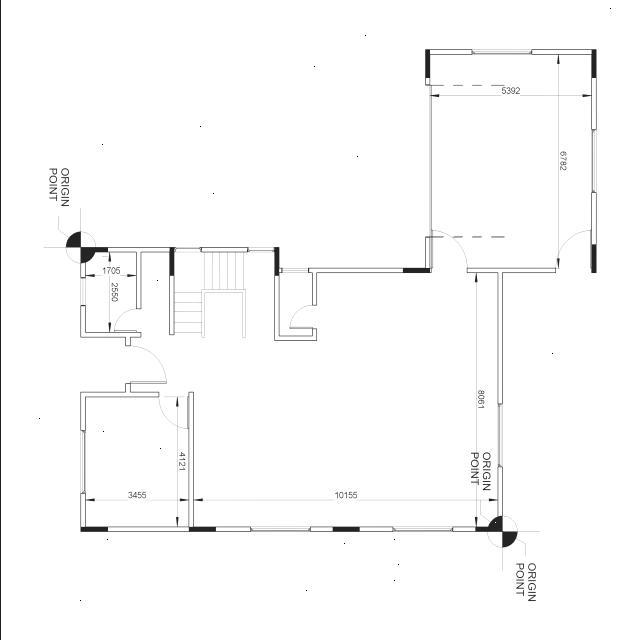Column: (590, 49, 596, 78), (474, 526, 502, 532), (79, 526, 107, 532), (168, 248, 174, 276), (188, 526, 215, 532), (590, 245, 596, 272), (424, 49, 429, 78), (80, 247, 108, 252), (402, 268, 430, 273), (332, 527, 358, 532), (274, 247, 278, 276)
Door: (124, 346, 166, 384), (554, 230, 590, 273), (431, 230, 466, 273), (158, 392, 188, 428), (289, 305, 316, 329), (113, 308, 140, 332)
Staircase: (173, 252, 274, 341)
Window: (496, 403, 502, 468), (590, 129, 596, 193), (470, 49, 532, 55), (392, 526, 452, 532), (250, 526, 310, 532), (80, 430, 84, 494), (246, 246, 274, 252), (280, 268, 308, 274), (173, 247, 201, 252), (80, 278, 84, 306)
